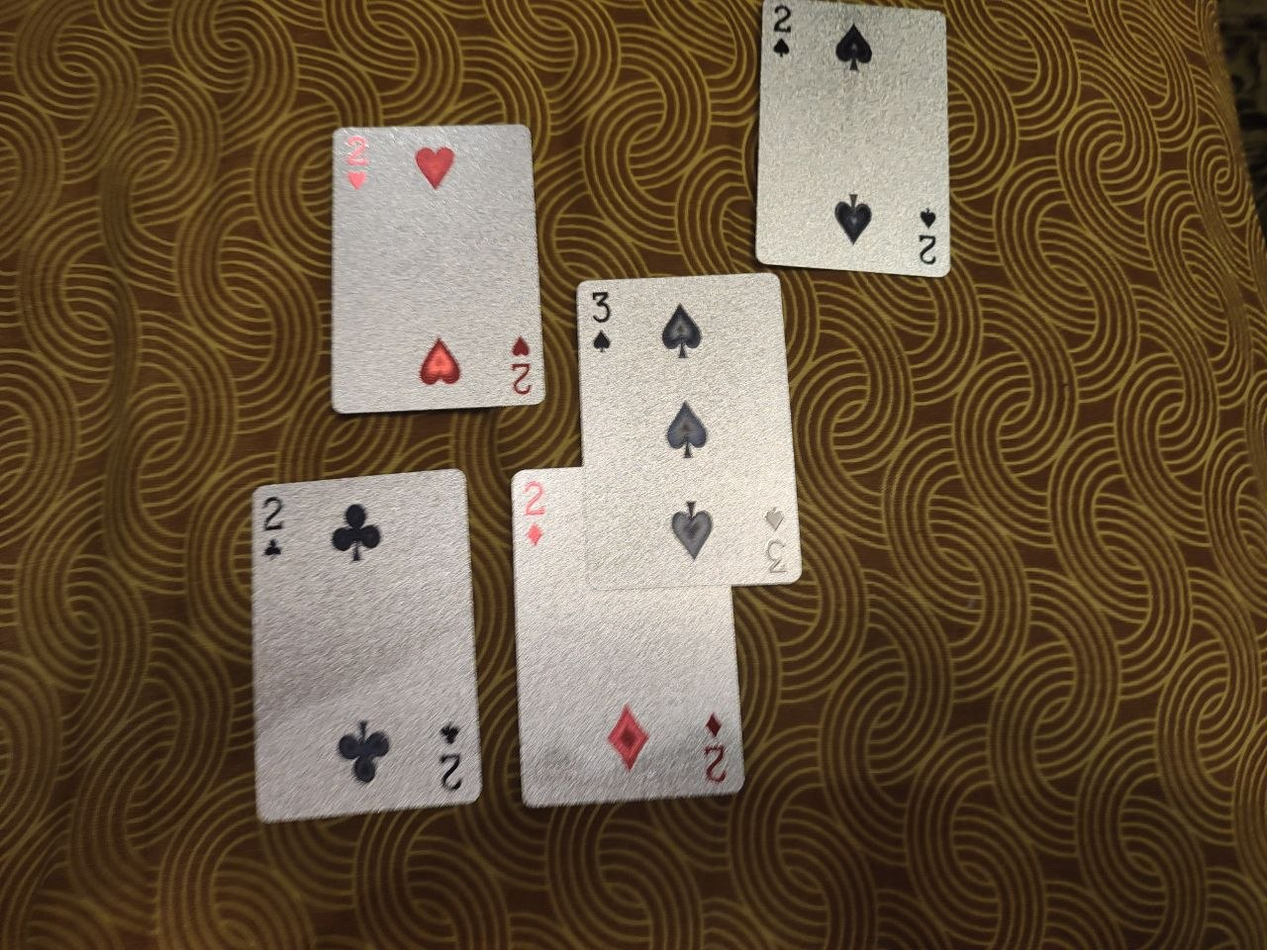2C: (249, 467, 482, 822)
2D: (510, 467, 746, 809)
2H: (329, 122, 548, 413)
2S: (752, 0, 952, 278)
3S: (573, 270, 803, 593)
